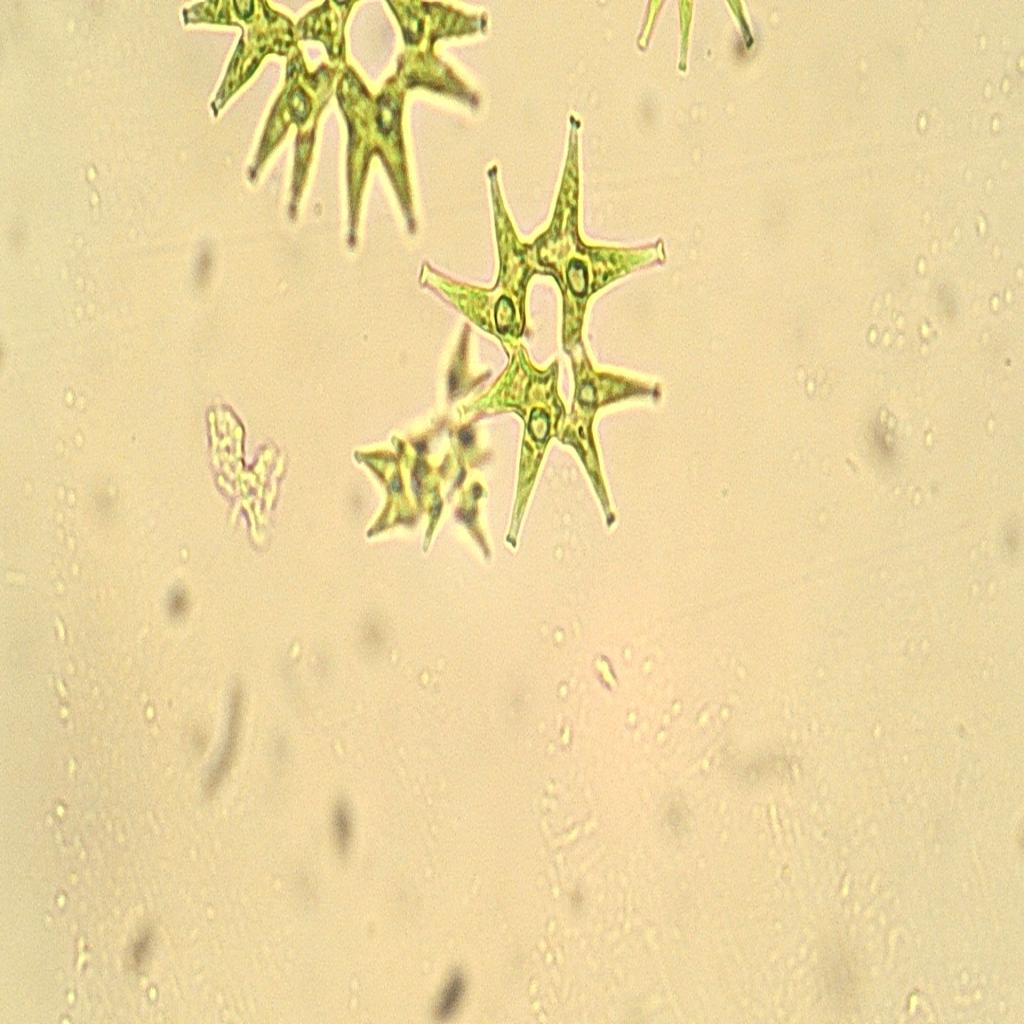Pediastrum_CF: (398, 104, 677, 560)
